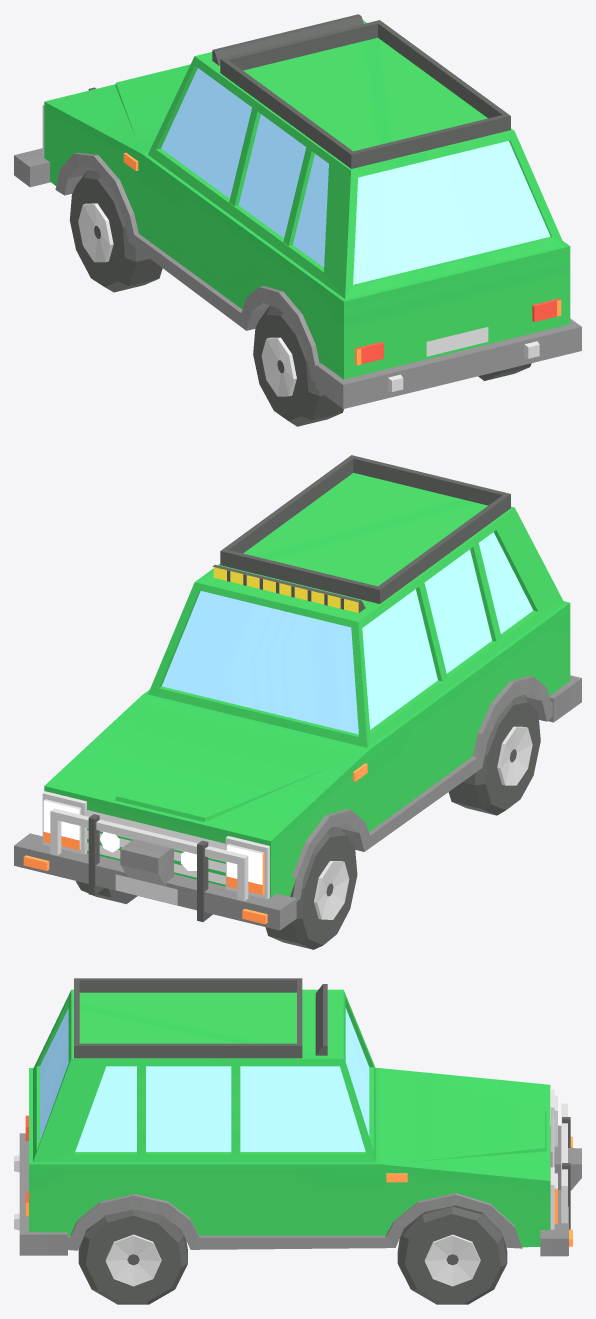
Rendered from transport_jeep.001.glb.
The picture shows the model from 3 angles, top to bottom: view 1: azimuth 30°, elevation 25°; view 2: azimuth 150°, elevation 25°; view 3: azimuth 270°, elevation 25°; orthographic projection. The views are drawn at different scales.
Visible parts, largest first — view 1: transport_jeep.001(Clone); view 2: transport_jeep.001(Clone); view 3: transport_jeep.001(Clone).
Part boxes in pixels (<box>): transport_jeep.001(Clone): <box>14,14,581,426</box>; transport_jeep.001(Clone): <box>14,455,581,949</box>; transport_jeep.001(Clone): <box>14,978,581,1304</box>.
Size of the model in its own units: 1.7 by 1.73 by 3.61.
Materials: 1 (1 with a texture image).
